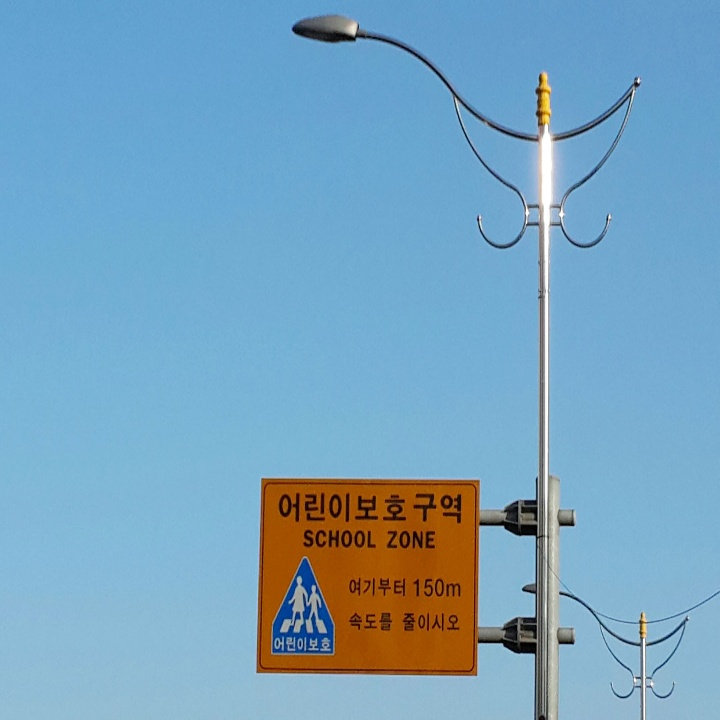child: (282, 573, 324, 629)
